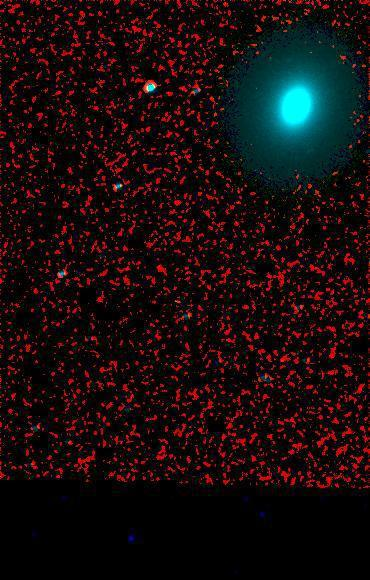star: (266, 345, 296, 375)
